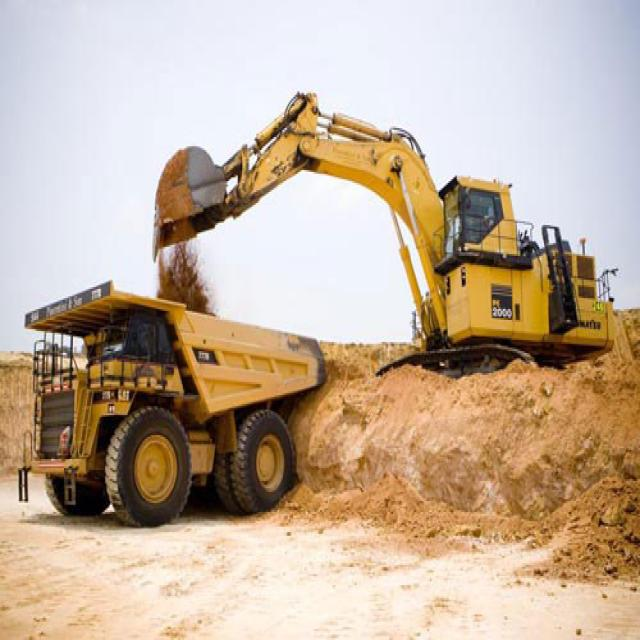dump_truck: (17, 285, 344, 543)
excavator: (138, 71, 616, 397)
